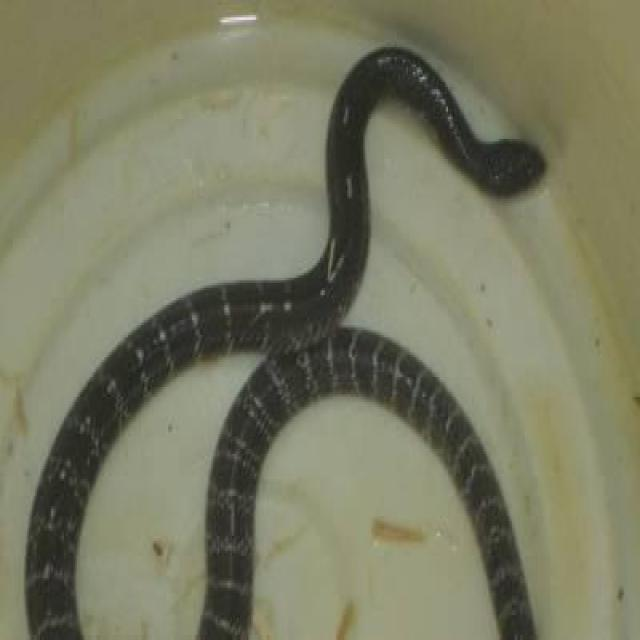Snake: (22, 42, 549, 638)
